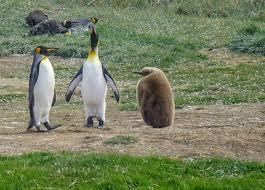king: (71, 17, 126, 160), (23, 33, 64, 148)
